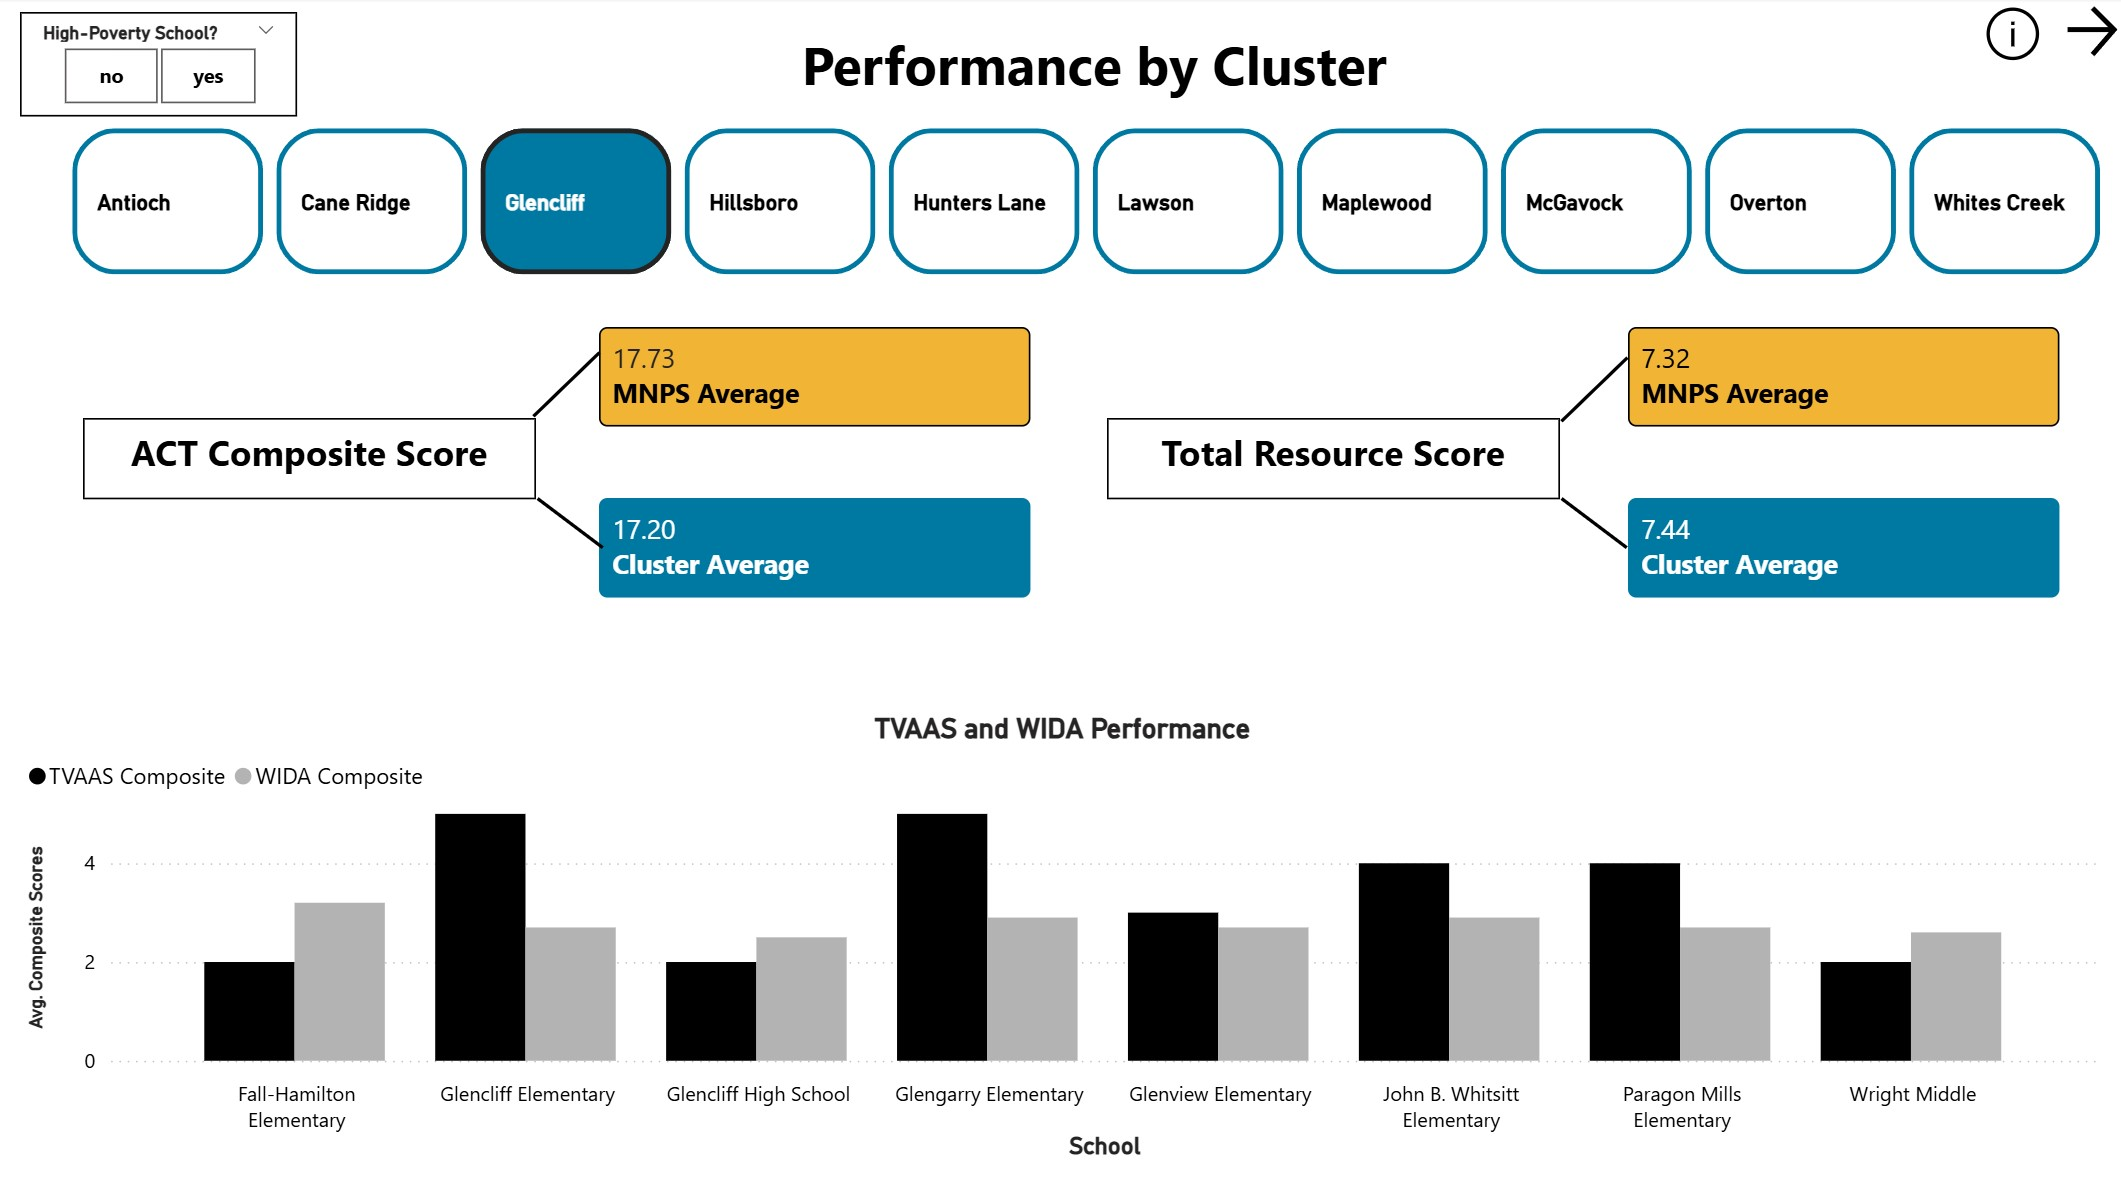

Layout of this report page (visuals, bound fields, positions):
{"tool":"powerbi","page":{"name":"Clusters","canvas":[1280,720],"ordinal":10},"visuals":[{"type":"clusteredColumnChart","title":"TVAAS and WIDA Performance","fields":{"Category":["schools info.School Name"],"Y":["select","Avg(schools info.tvaas_overall_comp)","Avg(schools info.wida_comp_avg)"]},"box":[11.5,430,1257.8,275.1],"z":0},{"type":"slicer","fields":{"Values":["schools info.high_poverty"]},"box":[1111.1,0,166.4,62.6],"z":1000},{"type":"advancedSlicerVisual","title":"Performance by Cluster","fields":{"Values":["schools info.cluster_name"]},"box":[38.7,73.3,1241.3,98.8],"z":2000},{"type":"multiRowCard","fields":{"Values":["Avg(schools info.act_avg_comp)","select"]},"box":[360.8,198.5,260.3,60.1],"z":3000},{"type":"multiRowCard","fields":{"Values":["Avg(schools info.act_avg_comp)"]},"box":[360.8,301.5,260.3,60],"z":4000},{"type":"multiRowCard","fields":{"Values":["select","Avg(schools info.total_resource_score)"]},"box":[981,198.5,260.3,60.1],"z":5000},{"type":"multiRowCard","fields":{"Values":["select","Avg(schools info.total_resource_score)"]},"box":[981,301.5,260.3,60],"z":6000},{"type":"textbox","box":[458,12.4,402.8,61],"z":7000},{"type":"textbox","box":[50.2,252.9,272.6,48.6],"z":8000},{"type":"textbox","box":[667.2,252.9,272.6,48.6],"z":9000},{"type":"shape","box":[939.8,289.1,41.2,54.4],"z":10000},{"type":"shape","box":[934.1,215.8,53.5,40.4],"z":11000},{"type":"shape","box":[314.6,212.5,53.5,40.4],"z":12000},{"type":"shape","box":[322.9,289.1,41.2,54.4],"z":13000}]}

Visuals, with their boxes in screenshot pixels (x1, y1, x2, y2), scaled from the page's 1280x720 canvas onto the 2121x1188 screenshot:
"TVAAS and WIDA Performance" clusteredColumnChart: [x1=19, y1=710, x2=2103, y2=1163]
slicer - schools info.high_poverty: [x1=1841, y1=0, x2=2117, y2=103]
"Performance by Cluster" advancedSlicerVisual: [x1=64, y1=121, x2=2120, y2=284]
multiRowCard - Avg(schools info.act_avg_comp) x select: [x1=598, y1=328, x2=1029, y2=427]
multiRowCard - Avg(schools info.act_avg_comp): [x1=598, y1=497, x2=1029, y2=596]
multiRowCard - select x Avg(schools info.total_resource_score): [x1=1626, y1=328, x2=2057, y2=427]
multiRowCard - select x Avg(schools info.total_resource_score): [x1=1626, y1=497, x2=2057, y2=596]
textbox: [x1=759, y1=20, x2=1426, y2=121]
textbox: [x1=83, y1=417, x2=535, y2=497]
textbox: [x1=1106, y1=417, x2=1557, y2=497]
shape: [x1=1557, y1=477, x2=1626, y2=567]
shape: [x1=1548, y1=356, x2=1636, y2=423]
shape: [x1=521, y1=351, x2=610, y2=417]
shape: [x1=535, y1=477, x2=603, y2=567]
